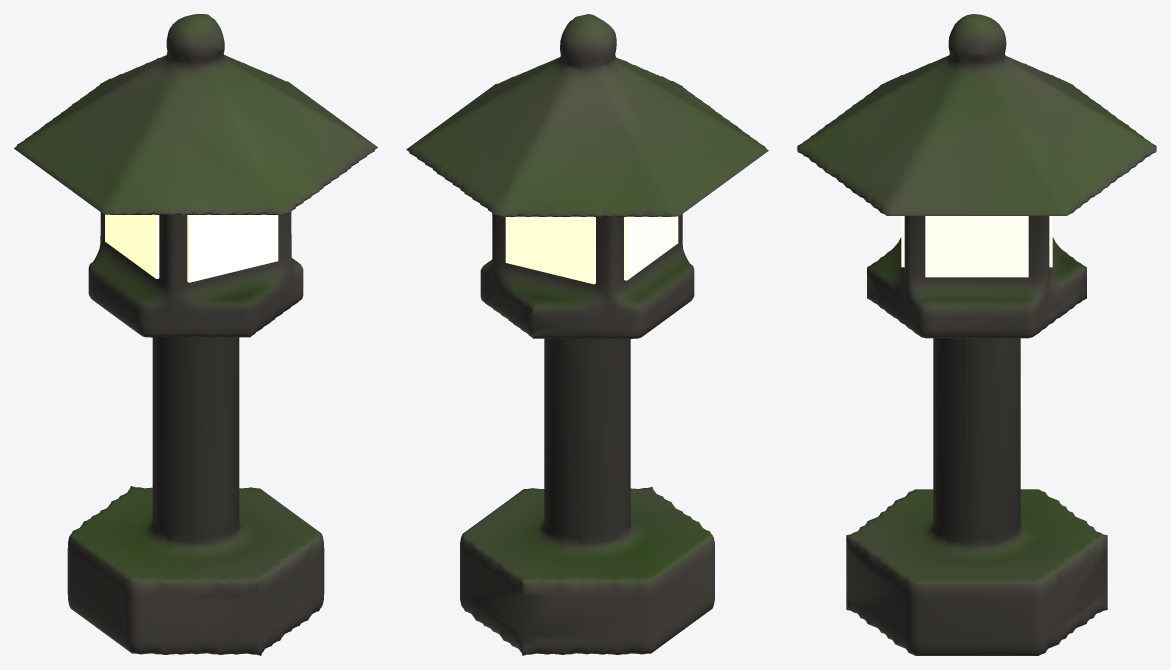
Rendered from lantern.glb.
3 views of the same model, side by side, from view 1: azimuth 30°, elevation 25°; view 2: azimuth 150°, elevation 25°; view 3: azimuth 270°, elevation 25° (orthographic).
Visible parts, largest first — view 1: lantern, Cube.001, Cube; view 2: lantern, Cube.001, Cube; view 3: lantern, Cube.
Part boxes in pixels (x1,y1,x2,y2): lantern: [14, 14, 377, 655]; Cube.001: [187, 214, 278, 282]; Cube: [105, 214, 159, 278]; lantern: [406, 14, 768, 655]; Cube.001: [505, 216, 595, 284]; Cube: [624, 216, 678, 280]; lantern: [797, 14, 1156, 655]; Cube: [925, 216, 1028, 277].
Bounding box in the file's own units: 0.9224 × 1.91 × 1.05.
